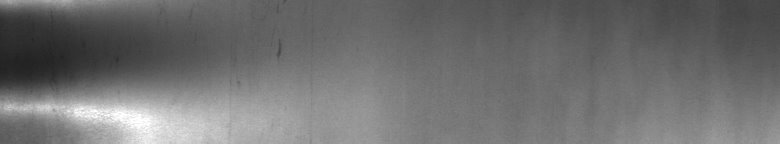ke: (4, 4, 140, 136)
